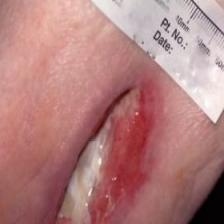wound-ulser: (36, 70, 153, 224)
